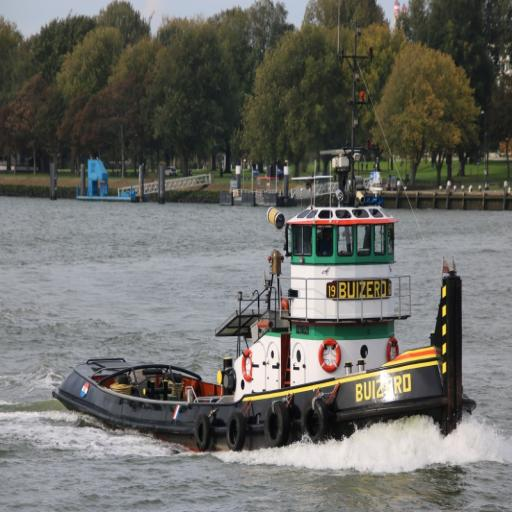tugboat: (50, 144, 481, 468)
